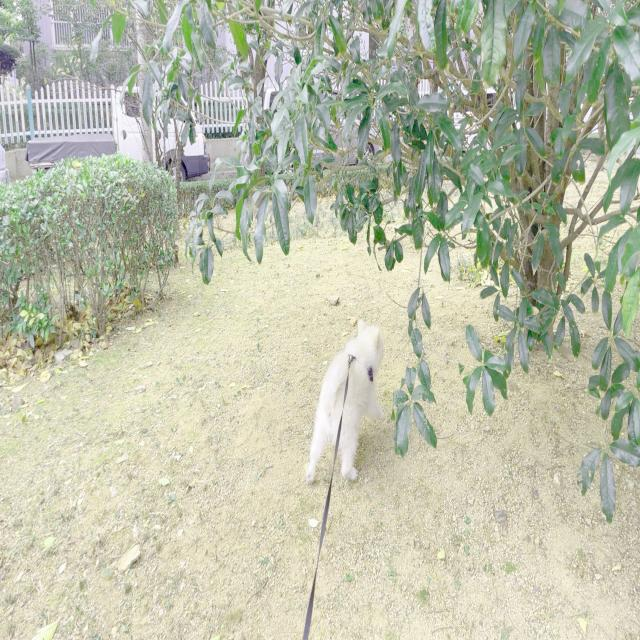Dog: (306, 321, 384, 487)
